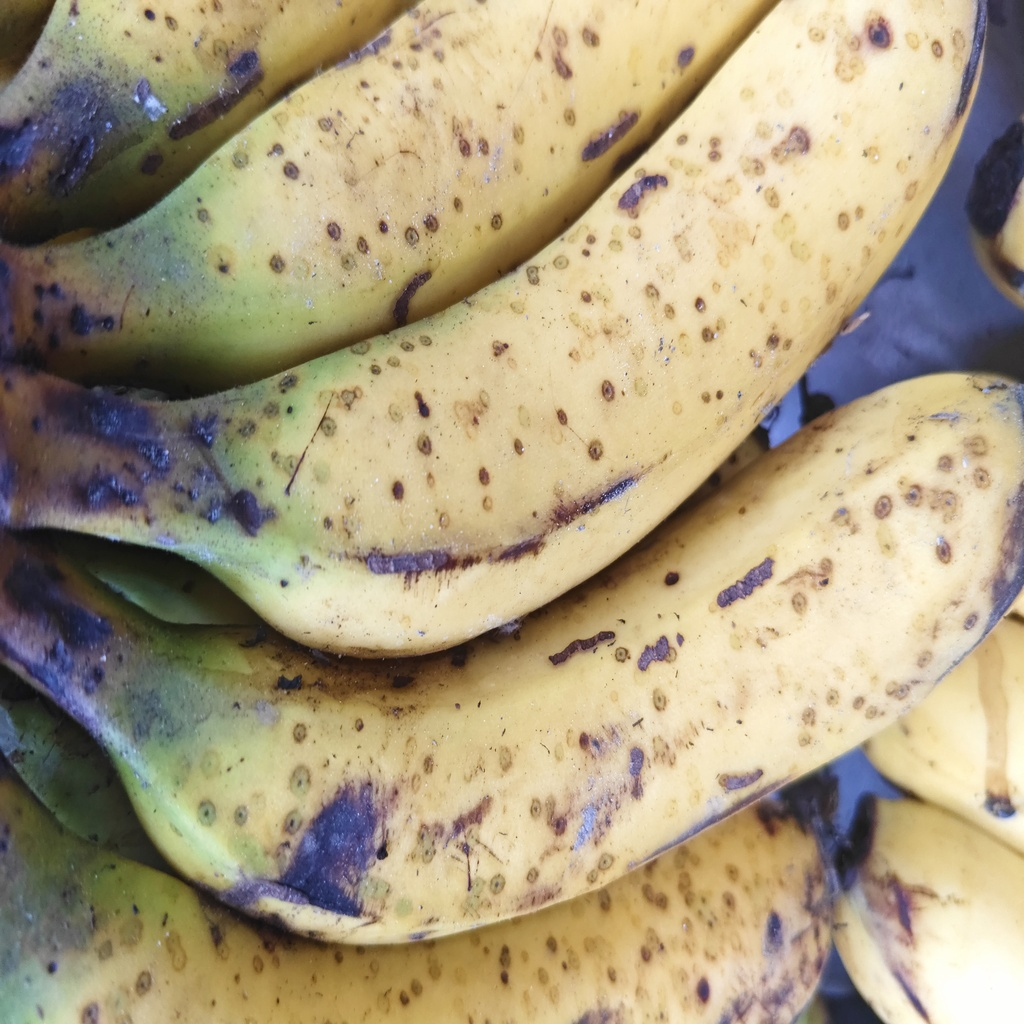unhealthy: (163, 1, 988, 659), (135, 370, 1021, 925)
